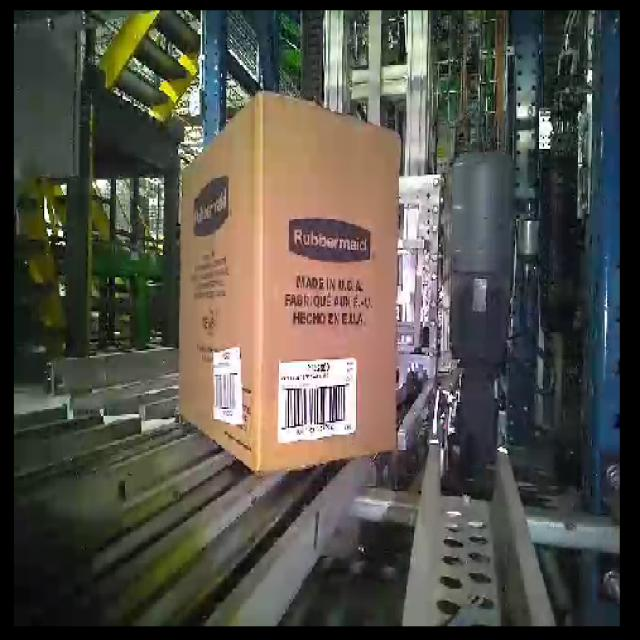box: (177, 94, 263, 479)
